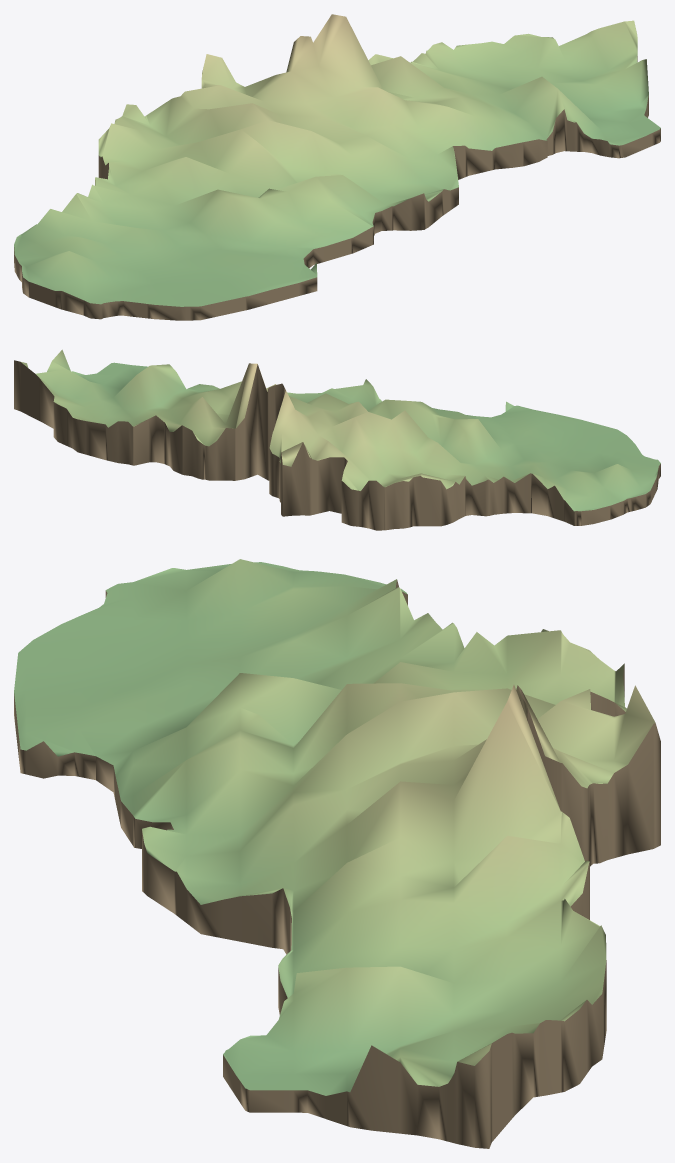
The model's file is SVK.glb.
3 views of the same model, one above another, from view 1: azimuth 30°, elevation 25°; view 2: azimuth 150°, elevation 25°; view 3: azimuth 270°, elevation 25° (orthographic). The views are drawn at different scales.
Parts seen in each view (by area): view 1: SVK; view 2: SVK; view 3: SVK.
Boxes of the visible parts, box(x1,y1,x2,y2) form: SVK: box(14, 14, 660, 320); SVK: box(14, 349, 660, 530); SVK: box(14, 559, 660, 1148).
Bounding box in the file's own units: 1.83 × 0.338 × 0.8952.
